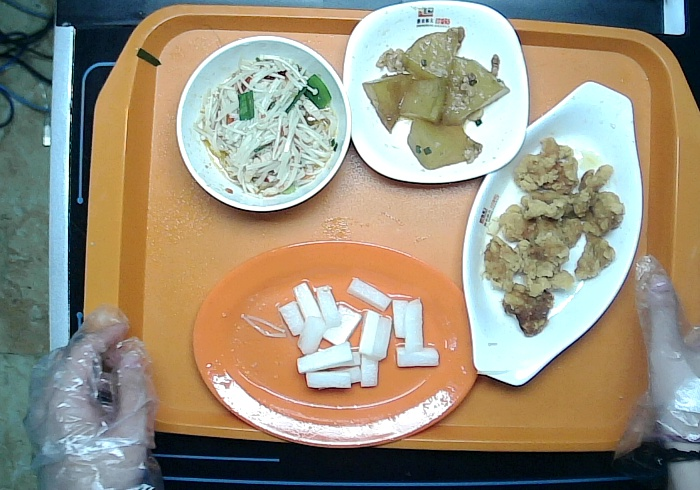NLDX-Bai_Se_Xiao_Fang_Die: (343, 1, 529, 184)
NLDX-Fan_Wan: (177, 35, 350, 215)
NLDX-Ju_Se_Pan: (192, 241, 482, 447)
NLDX-Yu_Pan: (459, 80, 643, 385)
